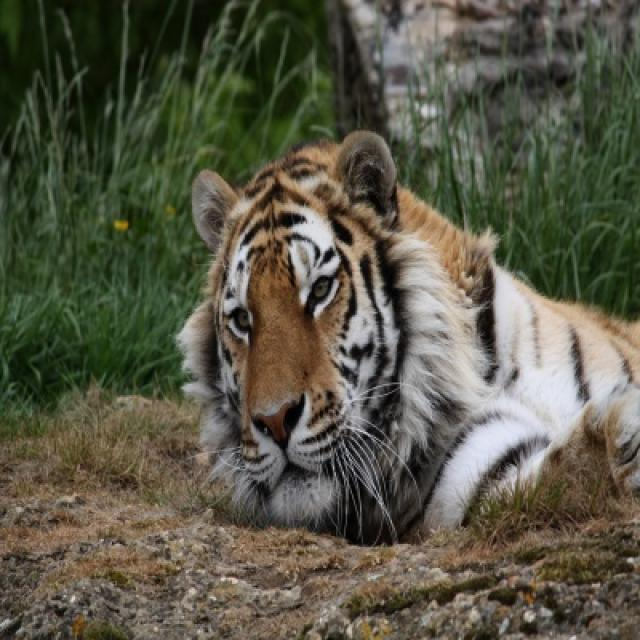Tiger: (174, 130, 638, 542), (178, 130, 638, 541)
